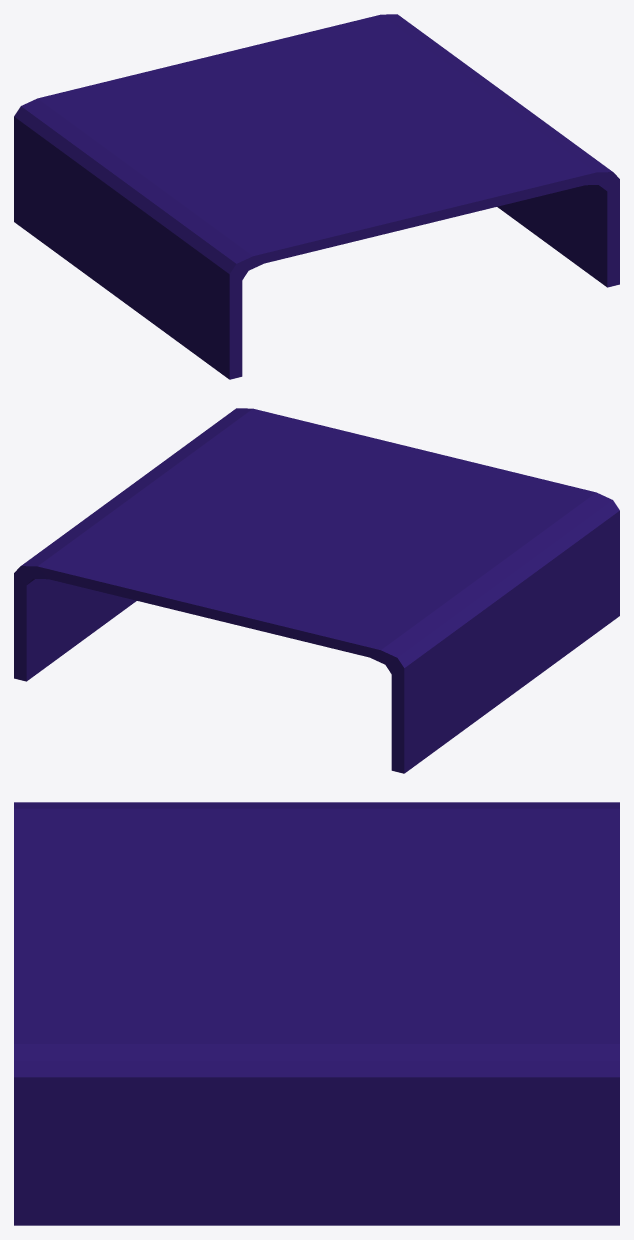
Rendered from Duvet.fbx.
3 views of the same model, one above another, from view 1: azimuth 30°, elevation 25°; view 2: azimuth 150°, elevation 25°; view 3: azimuth 270°, elevation 25° (orthographic). The views are drawn at different scales.
Visible parts, largest first — view 1: Duvet; view 2: Duvet; view 3: Duvet.
Part boxes in pixels (bbox=[...]): Duvet: bbox=[14, 14, 619, 379]; Duvet: bbox=[14, 408, 619, 773]; Duvet: bbox=[14, 802, 619, 1225].
Bounding box in the file's own units: 214 × 61.67 × 205.
